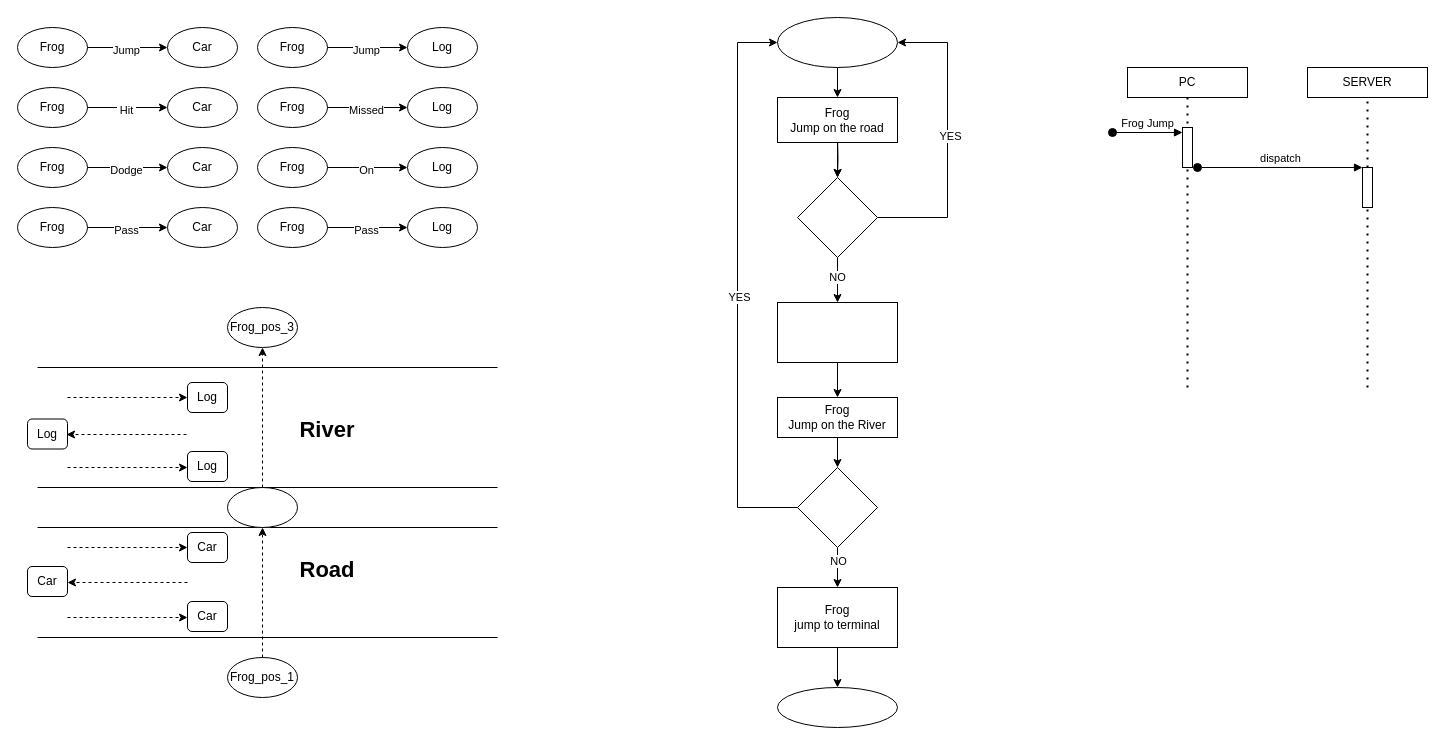
Some shapes in this 1445 by 745 pixel diagram are drawn without their labels. Here are the shapes that lost their labels. From the top down, the centre of each, then its label:
At (837,42): "Start".
At (837,217): "Collision?".
At (837,332): "Frog on the island in the middle".
At (262,507): "Frog_pos_2".
At (837,507): "Drop in".
At (837,707): "END".
